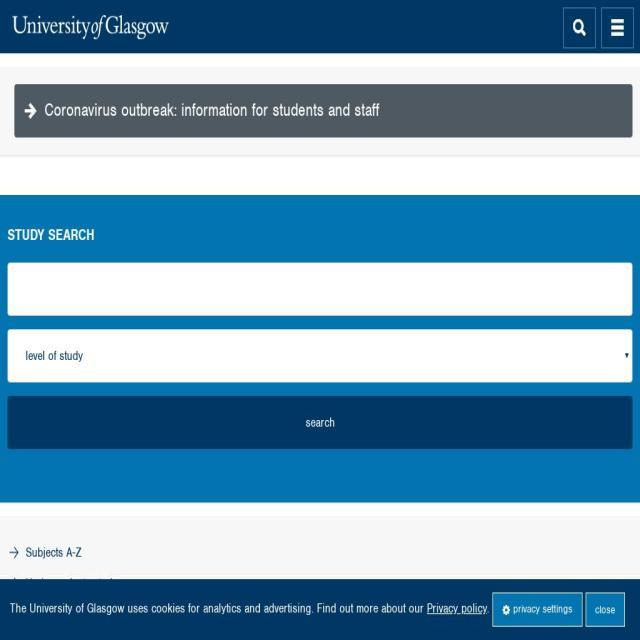button: (0, 0, 384, 53), (25, 542, 633, 564), (25, 572, 633, 594), (25, 604, 633, 624), (25, 634, 633, 640), (492, 592, 582, 626), (585, 592, 625, 626), (563, 8, 596, 48), (601, 8, 634, 48)
field: (7, 262, 633, 316), (7, 329, 633, 383), (7, 396, 633, 450)
heading: (8, 224, 632, 248)
image: (0, 0, 184, 53), (573, 19, 586, 36)
link: (44, 97, 380, 121), (427, 600, 487, 618), (611, 19, 624, 23), (611, 32, 624, 36), (611, 26, 624, 29)
text: (10, 600, 427, 618), (511, 602, 573, 616), (595, 602, 616, 616), (487, 600, 489, 618)
